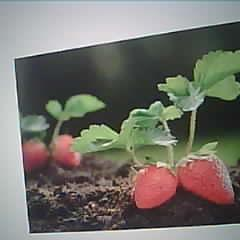straw-ripe: (178, 155, 234, 203)
